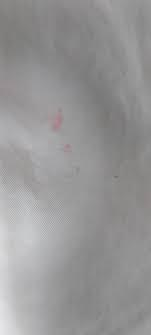kimchi: (49, 106, 67, 134), (61, 142, 75, 155)
